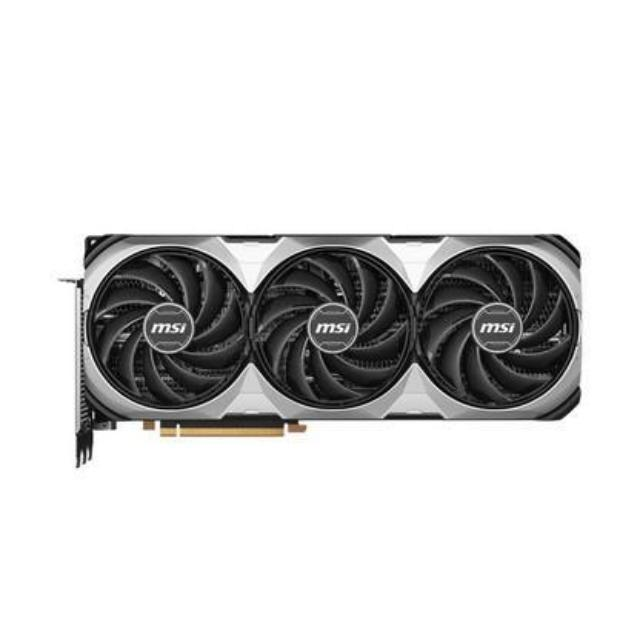GPU: (67, 212, 596, 444)
